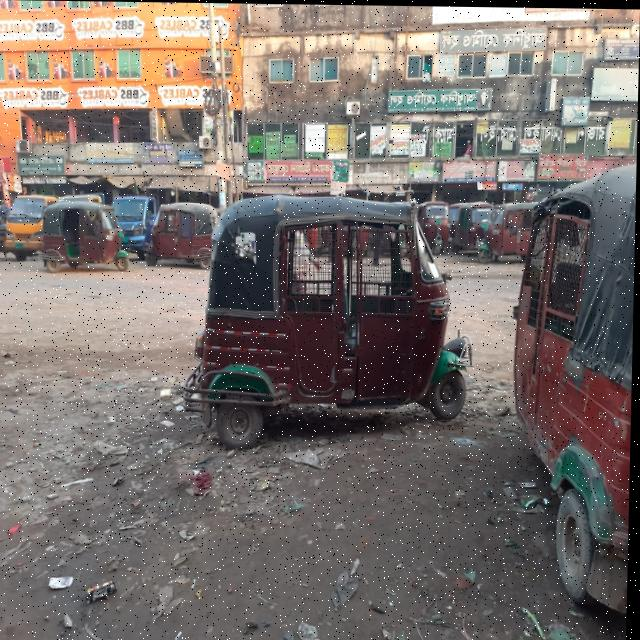cng: (168, 168, 457, 461), (508, 171, 637, 640), (14, 181, 144, 316)
